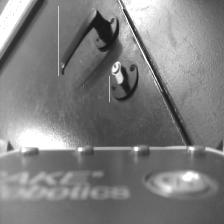Door Handle: (58, 6, 119, 76)
Lock: (109, 58, 138, 102)
